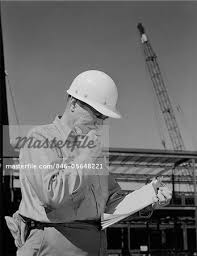Person_wearing_helmet: (54, 66, 129, 121)
